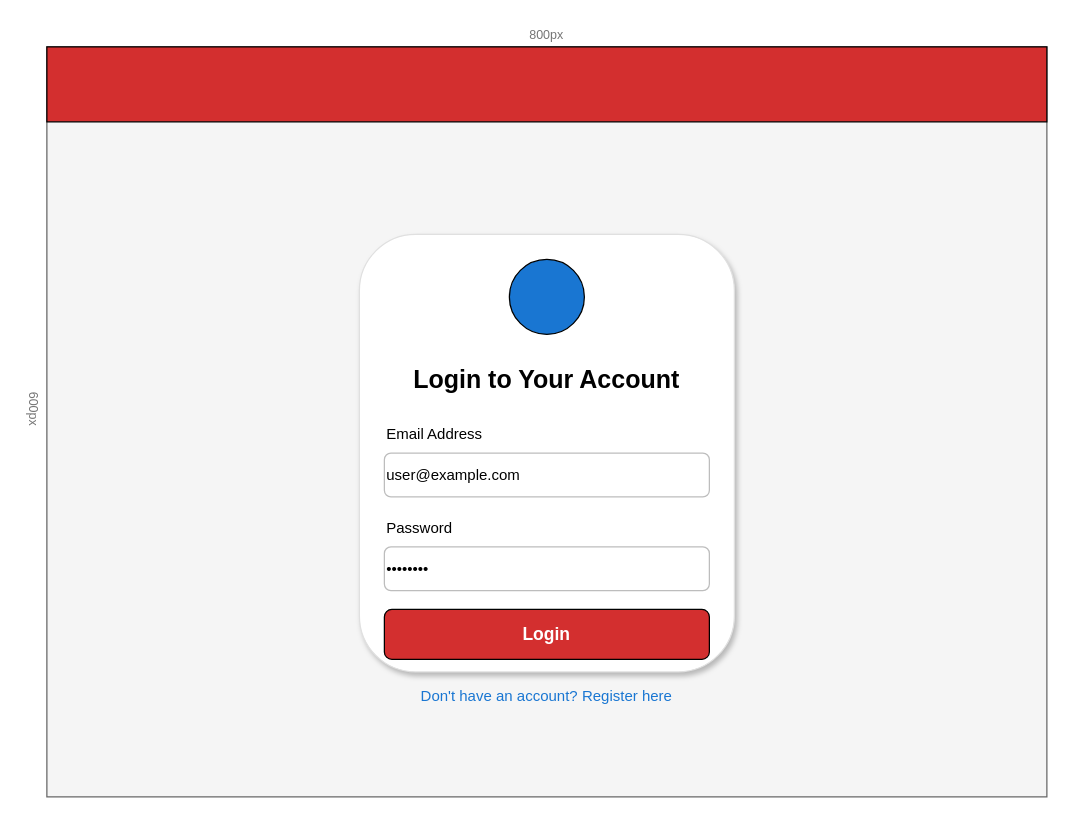
This 1069x819 diagram has some shape labels left out. Each missing label, with the centre of its shape:
"IM" goes at pixel 546 296.
"Inter Medi-A - Office Solutions" goes at pixel 546 84.
